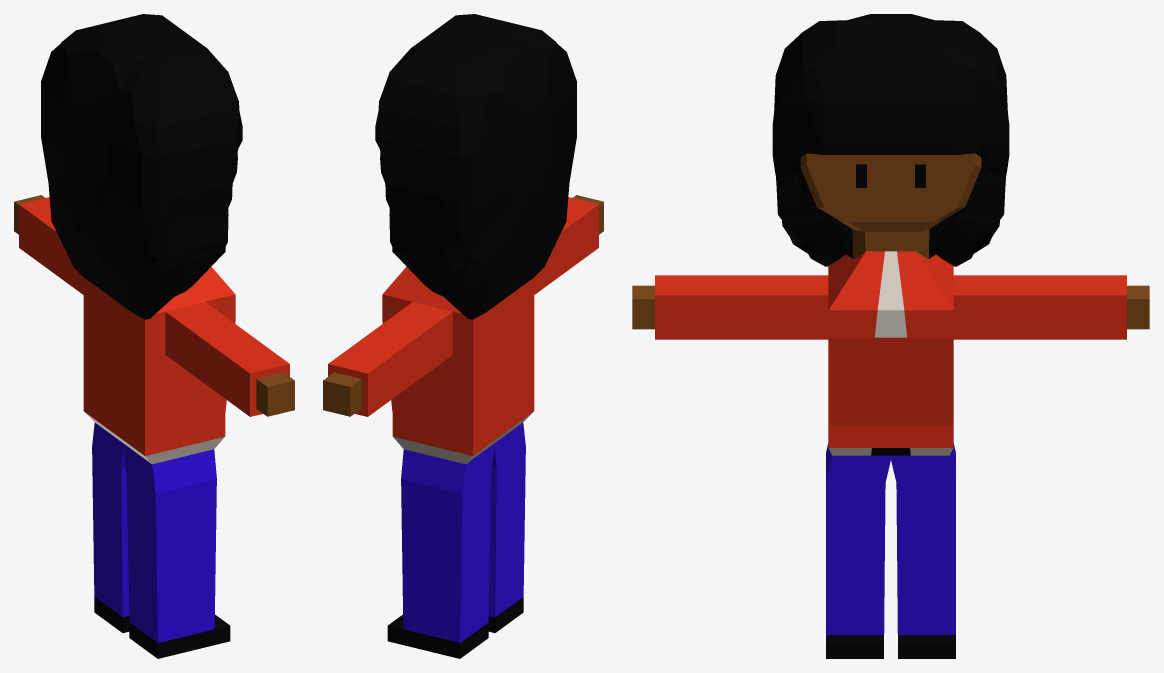
The model's file is Moriah.fbx.
The picture shows the model from 3 angles, left to right: view 1: azimuth 30°, elevation 25°; view 2: azimuth 150°, elevation 25°; view 3: azimuth 270°, elevation 25°; orthographic projection. The views are drawn at different scales.
Visible parts, largest first — view 1: Cube; view 2: Cube; view 3: Cube.
Part boxes in pixels (bbox=[...]): Cube: bbox=[14, 14, 294, 658]; Cube: bbox=[323, 14, 603, 658]; Cube: bbox=[632, 14, 1149, 658].
Size of the model in its own units: 281 by 1226 by 955.
